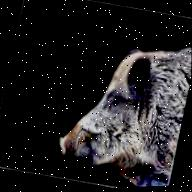boar: (46, 6, 192, 190)
